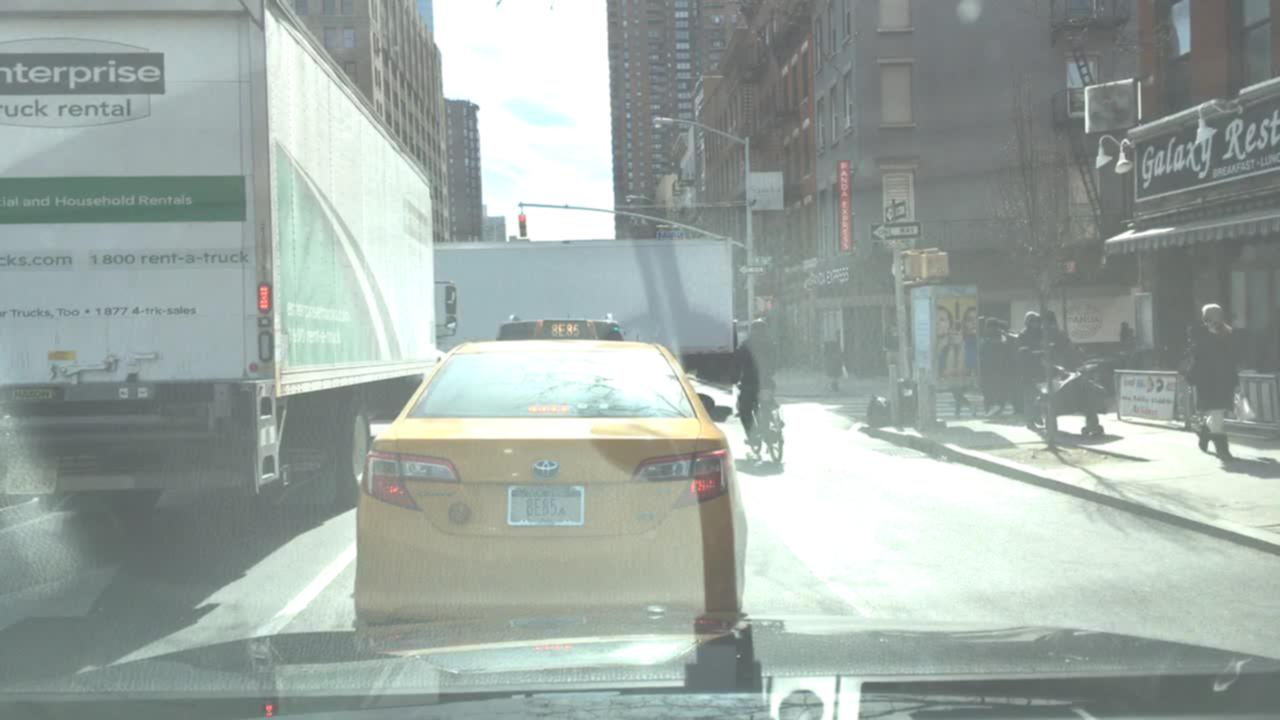Toyota: (527, 453, 568, 482)
